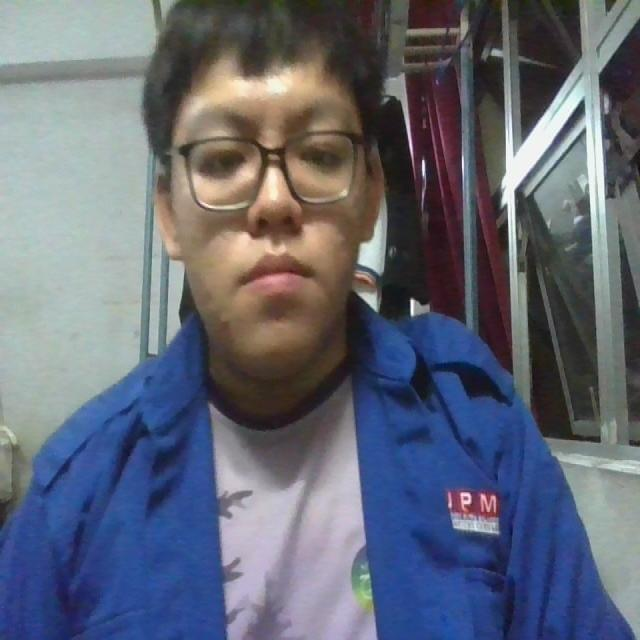person_with_labcoat: (0, 0, 634, 639)
